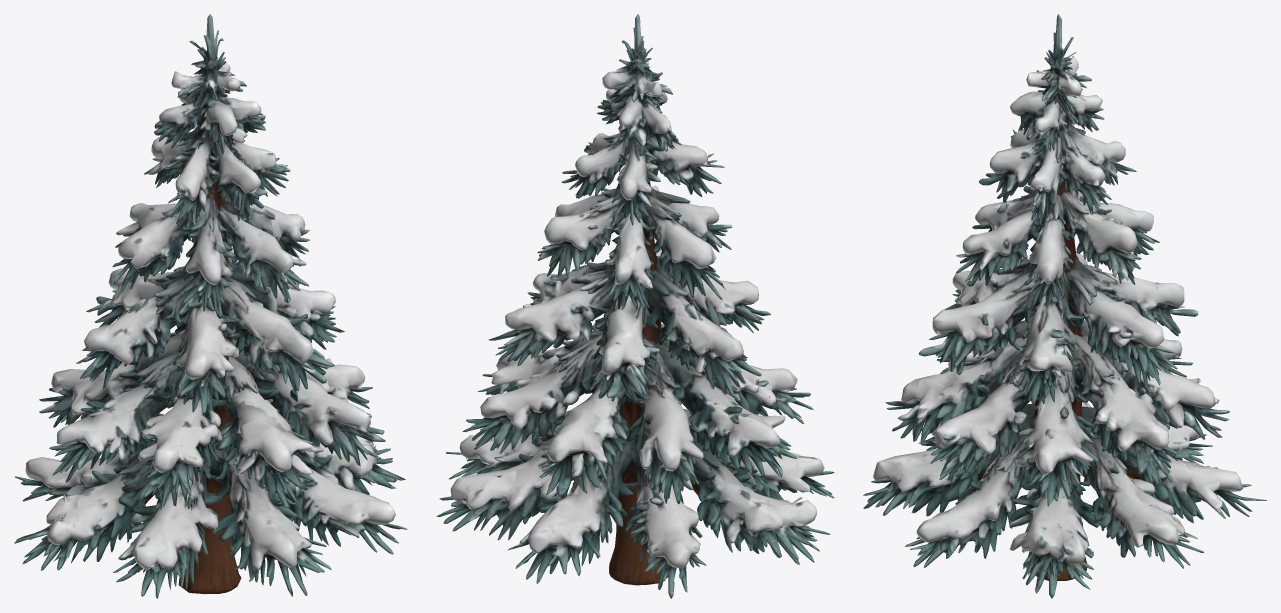
File: snow_tree.glb
3 views of the same model, side by side, from view 1: azimuth 30°, elevation 25°; view 2: azimuth 150°, elevation 25°; view 3: azimuth 270°, elevation 25° (orthographic). The views are drawn at different scales.
Parts seen in each view (by area): view 1: tripo_node_5535ac14-ab80-4ec1-bb23-8fbce28bfcf9; view 2: tripo_node_5535ac14-ab80-4ec1-bb23-8fbce28bfcf9; view 3: tripo_node_5535ac14-ab80-4ec1-bb23-8fbce28bfcf9.
Boxes of the visible parts, x1,y1,x2,y2 form: tripo_node_5535ac14-ab80-4ec1-bb23-8fbce28bfcf9: [14, 14, 407, 598]; tripo_node_5535ac14-ab80-4ec1-bb23-8fbce28bfcf9: [436, 14, 834, 598]; tripo_node_5535ac14-ab80-4ec1-bb23-8fbce28bfcf9: [863, 14, 1266, 598].
Bounding box in the file's own units: 0.6775 × 0.9803 × 0.6452.
Materials: 1 (1 with a texture image).
